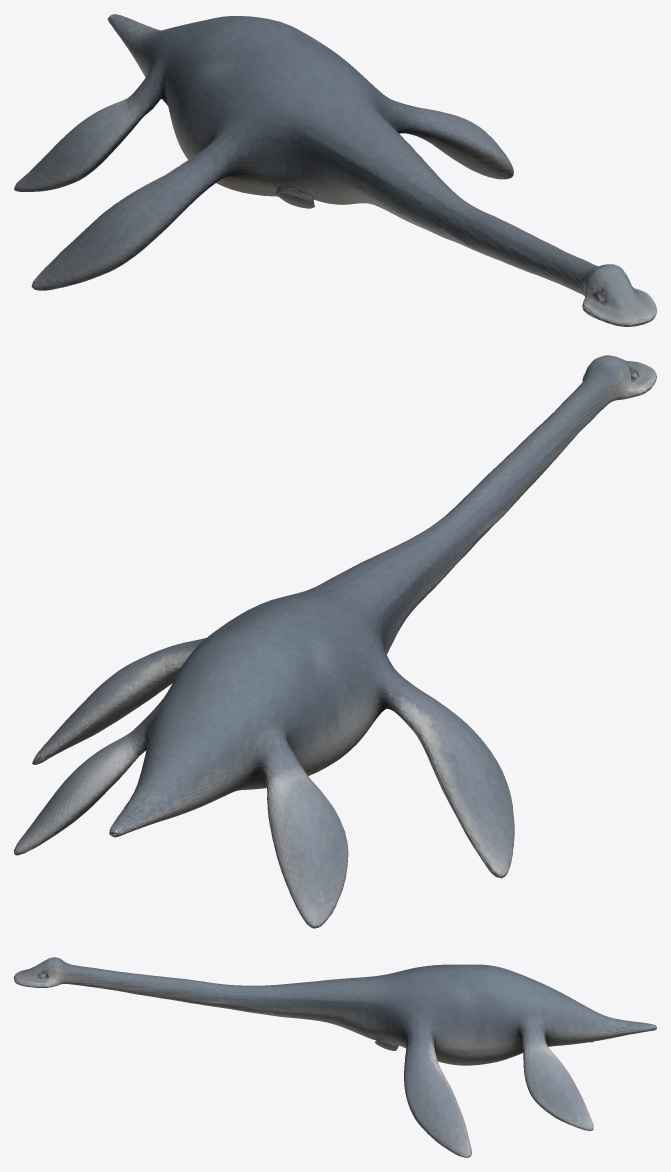
3 renders of one model, top to bottom at view 1: azimuth 30°, elevation 25°; view 2: azimuth 150°, elevation 25°; view 3: azimuth 270°, elevation 25°, orthographic. The views are drawn at different scales.
Parts seen in each view (by area): view 1: world; view 2: world; view 3: world.
Boxes of the visible parts, <box> form: world: <box>14,14,656,326</box>; world: <box>14,355,656,928</box>; world: <box>14,957,656,1157</box>.
Size of the model in its own units: 0.5153 by 0.2235 by 1.
Materials: 1 (1 with a texture image).
